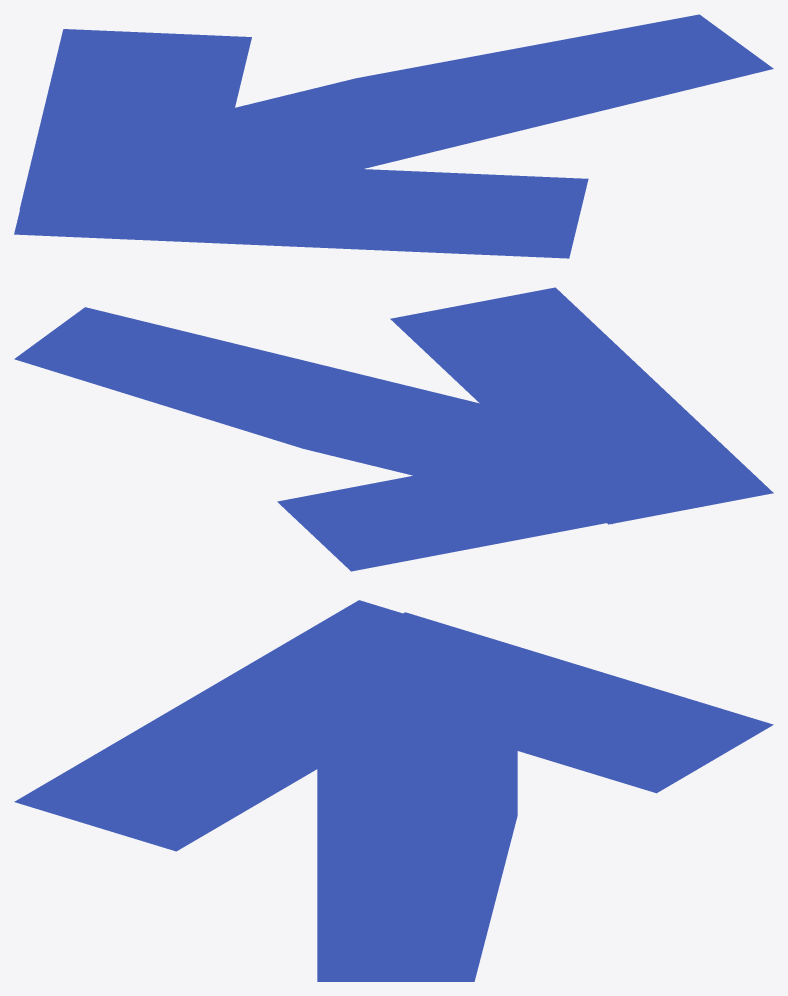
The model's file is arrow.fbx.
The picture shows the model from 3 angles, top to bottom: view 1: azimuth 30°, elevation 25°; view 2: azimuth 150°, elevation 25°; view 3: azimuth 270°, elevation 25°; orthographic projection. The views are drawn at different scales.
Parts seen in each view (by area): view 1: arrow; view 2: arrow; view 3: arrow.
Part boxes in pixels (left/top/right/bottom): arrow: left=14, top=14, right=773, bottom=258; arrow: left=14, top=287, right=773, bottom=571; arrow: left=14, top=600, right=773, bottom=981.
Bounding box in the file's own units: 6.19 × 5.22 × 0.0185.
